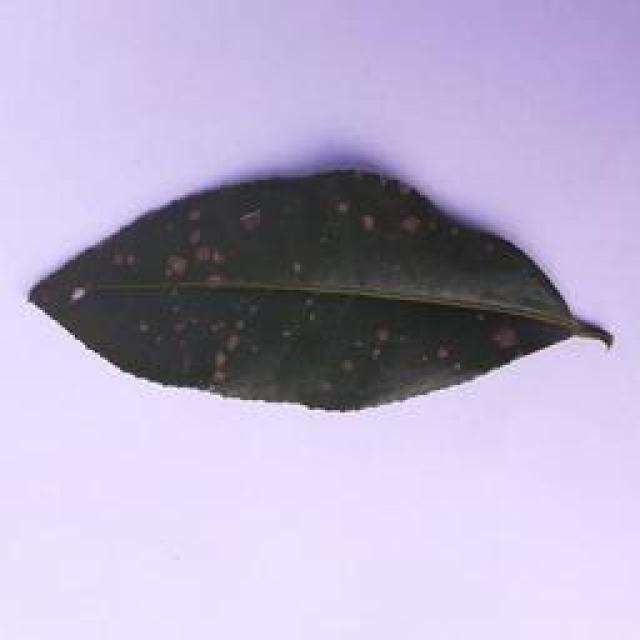Algal Leaf Spot: (22, 168, 617, 412)
